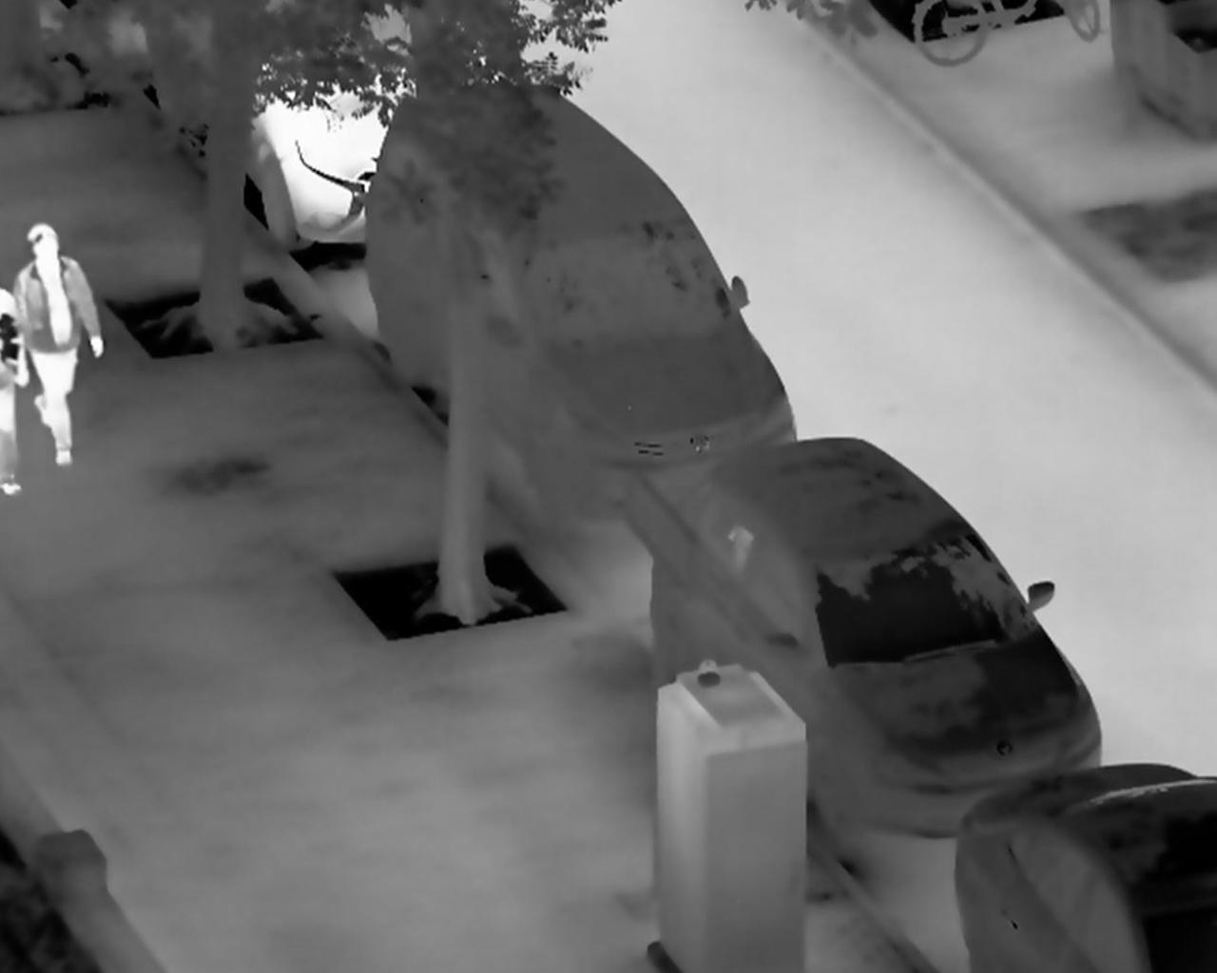person: (13, 222, 105, 467)
